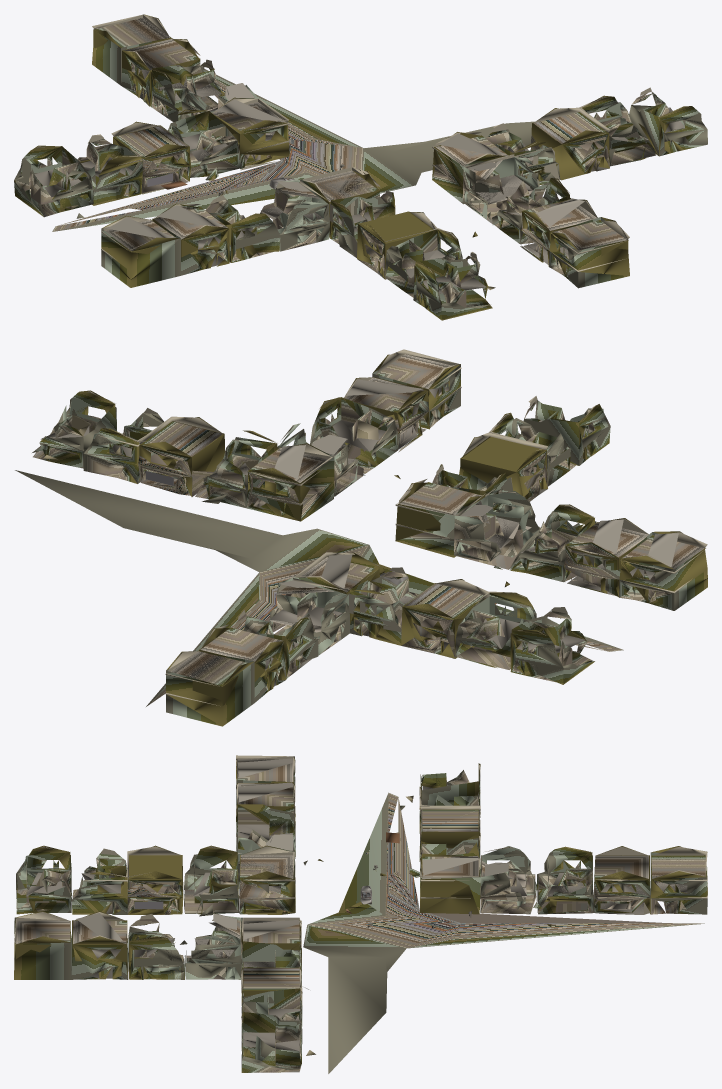
File: abandoned_lo.glb
3 views of the same model, one above another, from view 1: azimuth 30°, elevation 25°; view 2: azimuth 150°, elevation 25°; view 3: azimuth 270°, elevation 25° (orthographic). The views are drawn at different scales.
Size of the model in its own units: 29.93 by 2.36 by 31.28.
Materials: 3 (3 with a texture image).
